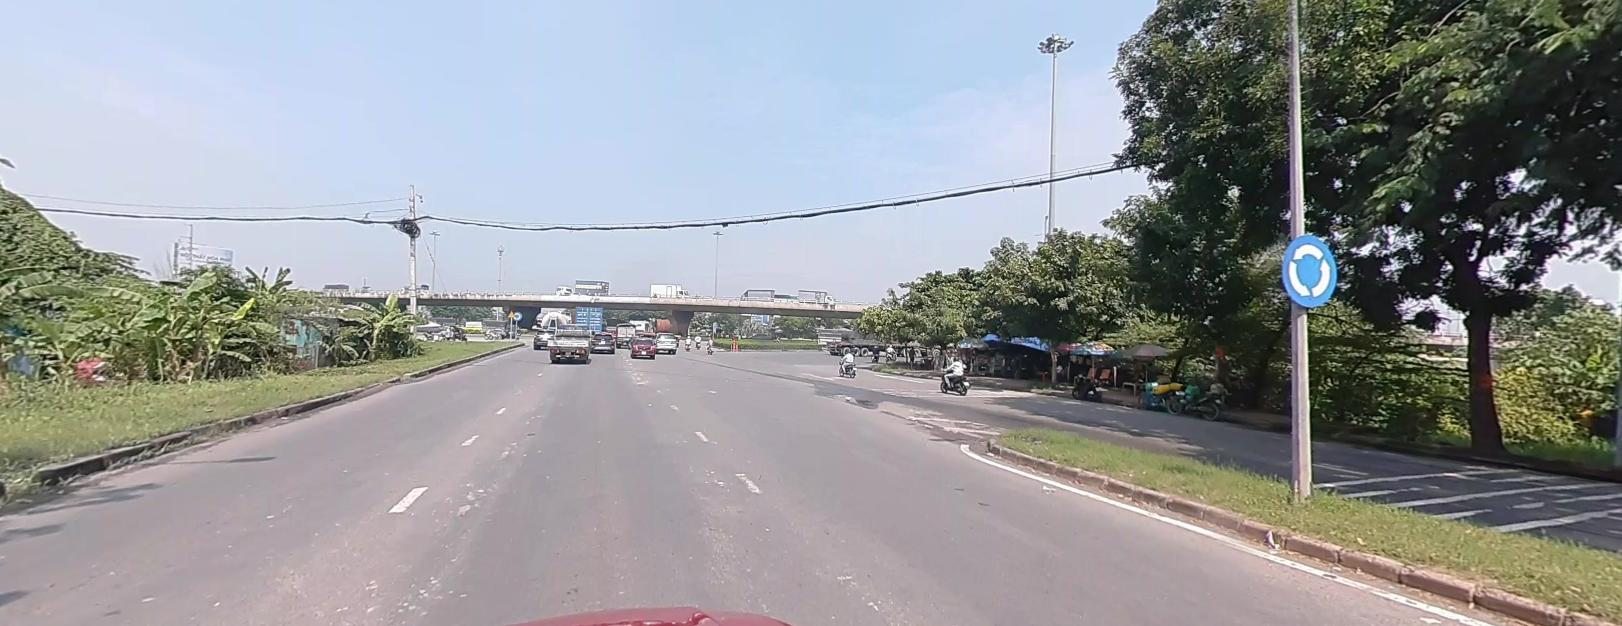Hieu lenh: (1282, 233, 1335, 305), (512, 309, 521, 319)
Nguy hiem: (507, 308, 515, 315)
